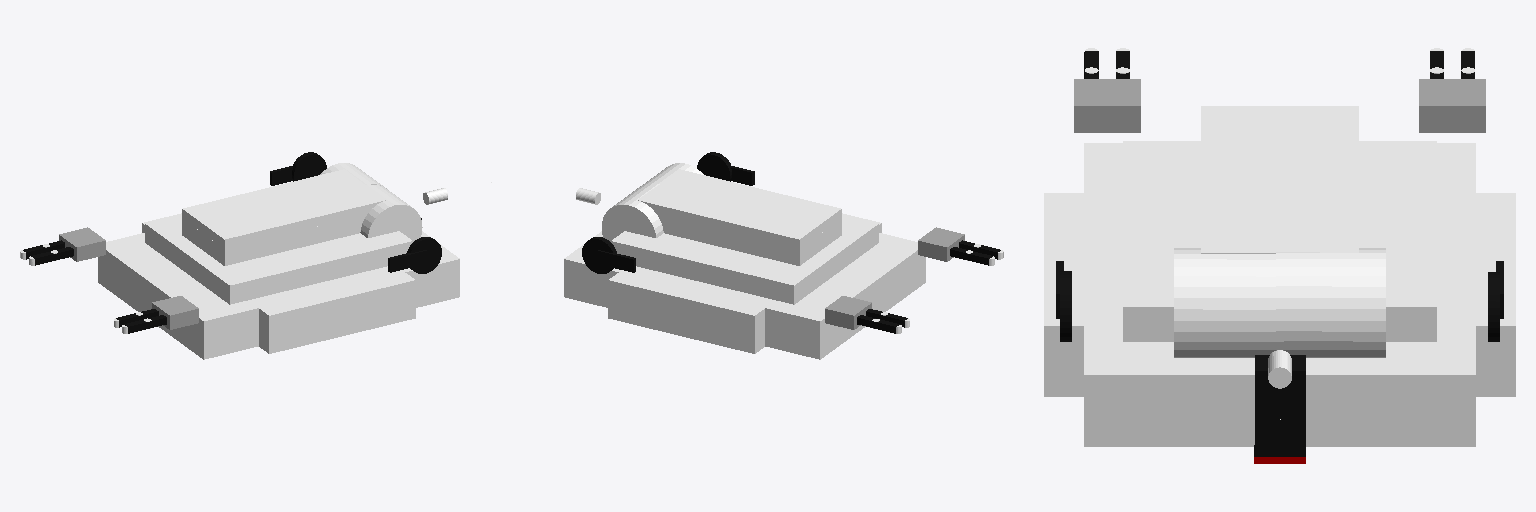
--- Facts derived from the render (not from the file) ---
3 views of the same robot in one strip: view 1: azimuth 30°, elevation 25°; view 2: azimuth 150°, elevation 25°; view 3: azimuth 270°, elevation 25° (orthographic).
Robot: amigo — 56 links, 55 joints (28 revolute, 27 fixed); root link base_link; default pose: all joints at 0.
Links seen in each view (by area): view 1: base, torso_mounting_frame, trunk, sidepot_right, upper_leg, shoulder_mount_right, hand_left, hand_right, shoulder_link1_right, shoulder_link1_left, shoulder_link2_right; view 2: base, trunk, torso_mounting_frame, sidepot_left, shoulder_mount_left, hand_left, hand_right, shoulder_link1_left, shoulder_link1_right, upper_leg, shoulder_link2_left; view 3: base, torso_mounting_frame, trunk, shoulder_mount_left, shoulder_mount_right, sidepot_left, sidepot_right, base_laser, hand_right, hand_left, shoulder_link1_right, shoulder_link1_left (+1 smaller).
Link boxes in pixels (x1=…): base: x1=98, y1=231, x2=459, y2=359; torso_mounting_frame: x1=145, y1=215, x2=412, y2=304; trunk: x1=182, y1=169, x2=386, y2=248; sidepot_right: x1=259, y1=273, x2=415, y2=353; upper_leg: x1=182, y1=214, x2=366, y2=265; shoulder_mount_right: x1=360, y1=185, x2=422, y2=241; hand_left: x1=59, y1=227, x2=105, y2=261; hand_right: x1=152, y1=296, x2=198, y2=329; shoulder_link1_right: x1=407, y1=237, x2=441, y2=273; shoulder_link1_left: x1=292, y1=152, x2=326, y2=181; shoulder_link2_right: x1=388, y1=250, x2=426, y2=272; base: x1=564, y1=231, x2=925, y2=359; trunk: x1=638, y1=169, x2=841, y2=265; torso_mounting_frame: x1=611, y1=215, x2=878, y2=304; sidepot_left: x1=608, y1=273, x2=764, y2=353; shoulder_mount_left: x1=602, y1=183, x2=663, y2=241; hand_left: x1=825, y1=296, x2=871, y2=329; hand_right: x1=918, y1=227, x2=964, y2=261; shoulder_link1_left: x1=582, y1=237, x2=616, y2=273; shoulder_link1_right: x1=697, y1=152, x2=731, y2=181; upper_leg: x1=800, y1=219, x2=841, y2=265; shoulder_link2_left: x1=597, y1=250, x2=635, y2=272; base: x1=1084, y1=143, x2=1475, y2=446; torso_mounting_frame: x1=1123, y1=141, x2=1436, y2=341; trunk: x1=1201, y1=106, x2=1358, y2=253; shoulder_mount_left: x1=1276, y1=248, x2=1385, y2=357; shoulder_mount_right: x1=1174, y1=248, x2=1283, y2=357; sidepot_left: x1=1476, y1=193, x2=1515, y2=396; sidepot_right: x1=1044, y1=193, x2=1083, y2=396; base_laser: x1=1254, y1=355, x2=1305, y2=456; hand_right: x1=1074, y1=79, x2=1140, y2=132; hand_left: x1=1419, y1=79, x2=1485, y2=132; shoulder_link1_right: x1=1060, y1=271, x2=1071, y2=341; shoulder_link1_left: x1=1488, y1=272, x2=1499, y2=341.
Size in the robot's own frame: 1.15 by 0.6 by 0.2448 metres.
0 mesh visuals loaded from 3 distinct referenced files (none loaded); not drawn: 5 (reference not matched to a file when rendering).

URDF robot description (amigo):
<?xml version="1.0" ?>
<!-- =================================================================================== -->
<!-- |    This document was autogenerated by xacro from [local-path]/ros/groovy/tue/trunk/amigo2_common/amigo2_description/scripts/../urdf/xacro/amigo2.urdf.xacro | -->
<!-- |    EDITING THIS FILE BY HAND IS NOT RECOMMENDED                                 | -->
<!-- =================================================================================== -->
<robot name="amigo" xmlns:controller="http://playerstage.sourceforge.net/gazebo/xmlschema/#controller" xmlns:interface="http://playerstage.sourceforge.net/gazebo/xmlschema/#interface" xmlns:sensor="http://playerstage.sourceforge.net/gazebo/xmlschema/#sensor" xmlns:xacro="http://ros.org/wiki/xacro">
  <!--xmlns:sensor="http://playerstage.sourceforge.net/gazebo/xmlschema/#sensor"
       xmlns:controller="http://playerstage.sourceforge.net/gazebo/xmlschema/#controller"
       xmlns:interface="http://playerstage.sourceforge.net/gazebo/xmlschema/#interface">-->
  <author>Janno Lunenburg</author>
  <license>BSD</license>
  <review notes="" status="unreviewed"/>
  <!-- ToDo: In general: look at DH conventions-->
  <!--get link & joint definitions -->
  <!--Definitions from default package?-->
  <!--get link & joint definitions -->
  <!--<include filename="$(find amigo_robot_model)/description/definitions.xacro" />-->
  <author>Kris van Tienhoven</author>
  <license>BSD</license>
  <review notes="" status="unreviewed"/>
  <!--get custom materials -->
  <!--<include filename="$(find amigo_robot_model)/description/materials.urdf.xacro" />-->
  <author>Kris van Tienhoven</author>
  <license>BSD</license>
  <review notes="" status="unreviewed"/>
  <material name="Blue">
    <color rgba="0.0 0.0 0.8 1.0"/>
  </material>
  <material name="Green">
    <color rgba="0.0 0.8 0.0 1.0"/>
  </material>
  <material name="Grey">
    <color rgba="0.7 0.7 0.7 1.0"/>
  </material>
  <material name="Grey2">
    <color rgba="0.9 0.9 0.9 1.0"/>
  </material>
  <material name="Red">
    <color rgba="0.8 0.0 0.0 1.0"/>
  </material>
  <material name="White">
    <color rgba="1.0 1.0 1.0 1.0"/>
  </material>
  <material name="Black">
    <color rgba="0.1 0.1 0.1 1.0"/>
  </material>
  <material name="LightGrey">
    <color rgba="0.6 0.6 0.6 1.0"/>
  </material>
  <material name="amigo_description/bottomcovers">
    <texture filename="package://amigo_description/media/materials/textures/bottomcovers/finalreduced.jpg"/>
  </material>
  <material name="amigo_description/white">
    <texture filename="package://amigo_description/media/materials/textures/white/white.jpg"/>
  </material>
  <material name="amigo_description/logo">
    <texture filename="package://amigo_description/media/materials/textures/logo/tue.jpg"/>
  </material>
  <material name="amigo_description/aluminium">
    <texture filename="package://amigo_description/media/materials/textures/aluminium/aluminium_0001_c.jpg"/>
  </material>
  <material name="amigo_description/orange">
    <texture filename="package://amigo_description/media/materials/textures/orange/orange.jpg"/>
  </material>
  <!--========BUILD BASE======-->
  <author>Janno Lunenburg</author>
  <license>BSD</license>
  <review notes="" status="unreviewed"/>
  <link name="base_link">
    <inertial>
      <origin rpy="0 0 0" xyz="0.0 0.0 0.0"/>
      <mass value="0"/>
      <inertia ixx="0" ixy="0" ixz="0" iyy="0" iyz="0" izz="0"/>
    </inertial>
    <visual>
      <origin rpy="0 0 0" xyz="0.0 0.0 0.0"/>
      <geometry>
        <cylinder length="0.00" radius="0.0"/>
      </geometry>
      <material name="White">
     </material>
    </visual>
    <collision>
      <origin rpy="0 0 0" xyz="0.0 0.0 0.0"/>
      <geometry>
        <cylinder length="0.00" radius="0.0"/>
      </geometry>
    </collision>
  </link>
  <gazebo reference="base_link">
    <material>Gazebo/White</material>
    <turnGravityOff>false</turnGravityOff>
  </gazebo>
  <link name="base">
    <inertial>
      <origin rpy="0 0 0" xyz="0.0 0.0 0.0"/>
      <mass value="0.1"/>
      <inertia ixx="0.001" ixy="0" ixz="0" iyy="0.001" iyz="0" izz="0.001"/>
    </inertial>
    <visual>
      <origin rpy="0 0 0" xyz="0.0 0.0 0.0"/>
      <geometry>
        <box size="0.700 0.500 0.1"/>
      </geometry>
      <material name="White">
     </material>
    </visual>
    <collision>
      <origin rpy="0 0 0" xyz="0.0 0.0 0.0"/>
      <geometry>
        <box size="0.700 0.500 0.1"/>
      </geometry>
    </collision>
  </link>
  <gazebo reference="base">
    <material>Gazebo/White</material>
    <turnGravityOff>false</turnGravityOff>
  </gazebo>
  <link name="sidepot_left">
    <inertial>
      <origin rpy="0 0 0" xyz="0.0 0.0 0.0"/>
      <mass value="0.1"/>
      <inertia ixx="0.001" ixy="0" ixz="0" iyy="0.001" iyz="0" izz="0.001"/>
    </inertial>
    <visual>
      <origin rpy="0 0 0" xyz="0.0 0.0 0.0"/>
      <geometry>
        <box size="0.400 0.050 0.1"/>
      </geometry>
      <material name="White">
     </material>
    </visual>
    <collision>
      <origin rpy="0 0 0" xyz="0.0 0.0 0.0"/>
      <geometry>
        <box size="0.400 0.050 0.1"/>
      </geometry>
    </collision>
  </link>
  <gazebo reference="sidepot_left">
    <material>Gazebo/White</material>
    <turnGravityOff>false</turnGravityOff>
  </gazebo>
  <link name="sidepot_right">
    <inertial>
      <origin rpy="0 0 0" xyz="0.0 0.0 0.0"/>
      <mass value="0.1"/>
      <inertia ixx="0.001" ixy="0" ixz="0" iyy="0.001" iyz="0" izz="0.001"/>
    </inertial>
    <visual>
      <origin rpy="0 0 0" xyz="0.0 0.0 0.0"/>
      <geometry>
        <box size="0.400 0.050 0.1"/>
      </geometry>
      <material name="White">
     </material>
    </visual>
    <collision>
      <origin rpy="0 0 0" xyz="0.0 0.0 0.0"/>
      <geometry>
        <box size="0.400 0.050 0.1"/>
      </geometry>
    </collision>
  </link>
  <gazebo reference="sidepot_right">
    <material>Gazebo/White</material>
    <turnGravityOff>false</turnGravityOff>
  </gazebo>
  <link name="base_torso_mount">
    <inertial>
      <origin rpy="0 0 0" xyz="0.0 0.0 0.0"/>
      <mass value="0"/>
      <inertia ixx="0" ixy="0" ixz="0" iyy="0" iyz="0" izz="0"/>
    </inertial>
    <visual>
      <origin rpy="0 0 0" xyz="0.0 0.0 0.0"/>
      <geometry>
        <cylinder length="0.00" radius="0.0"/>
      </geometry>
      <material name="White">
     </material>
    </visual>
    <collision>
      <origin rpy="0 0 0" xyz="0.0 0.0 0.0"/>
      <geometry>
        <cylinder length="0.00" radius="0.0"/>
      </geometry>
    </collision>
  </link>
  <gazebo reference="base_torso_mount">
    <material>Gazebo/White</material>
    <turnGravityOff>false</turnGravityOff>
  </gazebo>
  <joint name="base_link_joint" type="fixed">
    <parent link="base_link"/>
    <child link="base"/>
    <axis xyz="1 0 0"/>
    <origin rpy="0 0 0" xyz="0.0 0.0 0.075"/>
    <!--ToDO: adjust height-->
  </joint>
  <joint name="sidepot_left_joint" type="fixed">
    <parent link="base"/>
    <child link="sidepot_left"/>
    <axis xyz="1 0 0"/>
    <origin rpy="0 0 0" xyz="0.0 0.275 0.0"/>
    <!--ToDO: adjust distance-->
  </joint>
  <joint name="sidepot_right_joint" type="fixed">
    <parent link="base"/>
    <child link="sidepot_right"/>
    <axis xyz="1 0 0"/>
    <origin rpy="0 0 0" xyz="0.0 -0.275 0.0"/>
    <!--ToDO: adjust distance-->
  </joint>
  <joint name="base_mount_joint" type="fixed">
    <parent link="base"/>
    <child link="base_torso_mount"/>
    <origin rpy="0 0 0.0" xyz="0.0 0.0 0.05"/>
    <!--ToDo: adjust height-->
  </joint>
  <!--========BUILD TORSO======-->
  <author>Rob Janssen, Kris van Tienhoven</author>
  <license>BSD</license>
  <review notes="" status="unreviewed"/>
  <link name="torso_mounting_frame">
    <inertial>
      <origin rpy="0 0 0" xyz="0.0 0.0 0.025"/>
      <mass value="0.1"/>
      <inertia ixx="0.001" ixy="0" ixz="0" iyy="0.001" iyz="0" izz="0.001"/>
    </inertial>
    <visual>
      <origin rpy="0 0 0" xyz="0.0 0.0 0.025"/>
      <geometry>
        <box size="0.500 0.400 0.05"/>
      </geometry>
      <material name="White">
     </material>
    </visual>
    <collision>
      <origin rpy="0 0 0" xyz="0.0 0.0 0.025"/>
      <geometry>
        <box size="0.500 0.400 0.05"/>
      </geometry>
    </collision>
  </link>
  <gazebo reference="torso_mounting_frame">
    <material>Gazebo/White</material>
    <turnGravityOff>false</turnGravityOff>
  </gazebo>
  <link name="lower_rear_leg">
    <inertial>
      <origin rpy="0 0 0" xyz="0.195 0.0 0.0"/>
      <mass value="0.1"/>
      <inertia ixx="0.001" ixy="0" ixz="0" iyy="0.001" iyz="0" izz="0.001"/>
    </inertial>
    <visual>
      <origin rpy="0 0 0" xyz="0.195 0.0 0.0"/>
      <geometry>
        <box size="0.390 0.200 0.05"/>
      </geometry>
      <material name="White">
     </material>
    </visual>
    <collision>
      <origin rpy="0 0 0" xyz="0.195 0.0 0.0"/>
      <geometry>
        <box size="0.390 0.200 0.05"/>
      </geometry>
    </collision>
  </link>
  <gazebo reference="lower_rear_leg">
    <material>Gazebo/White</material>
    <turnGravityOff>false</turnGravityOff>
  </gazebo>
  <link name="upper_leg">
    <inertial>
      <origin rpy="0 0 0" xyz="0.20575 0.0 0.0"/>
      <mass value="0.1"/>
      <inertia ixx="0.001" ixy="0" ixz="0" iyy="0.001" iyz="0" izz="0.001"/>
    </inertial>
    <visual>
      <origin rpy="0 0 0" xyz="0.20575 0.0 0.0"/>
      <geometry>
        <box size="0.4115 0.200 0.1"/>
      </geometry>
      <material name="White">
     </material>
    </visual>
    <collision>
      <origin rpy="0 0 0" xyz="0.20575 0.0 0.0"/>
      <geometry>
        <box size="0.4115 0.200 0.1"/>
      </geometry>
    </collision>
  </link>
  <gazebo reference="upper_leg">
    <material>Gazebo/White</material>
    <turnGravityOff>false</turnGravityOff>
  </gazebo>
  <link name="trunk">
    <inertial>
      <origin rpy="0 0 0" xyz="0.2225 0.0 0.0"/>
      <mass value="0.1"/>
      <inertia ixx="0.001" ixy="0" ixz="0" iyy="0.001" iyz="0" izz="0.001"/>
    </inertial>
    <visual>
      <origin rpy="0 0 0" xyz="0.2225 0.0 0.0"/>
      <geometry>
        <box size="0.445 0.200 0.15"/>
      </geometry>
      <material name="White">
     </material>
    </visual>
    <collision>
      <origin rpy="0 0 0" xyz="0.2225 0.0 0.0"/>
      <geometry>
        <box size="0.445 0.200 0.15"/>
      </geometry>
    </collision>
  </link>
  <gazebo reference="trunk">
    <material>Gazebo/White</material>
    <turnGravityOff>false</turnGravityOff>
  </gazebo>
  <joint name="torso_mount_joint" type="fixed">
    <parent link="base_torso_mount"/>
    <child link="torso_mounting_frame"/>
    <origin rpy="0 0 0.0" xyz="0.0 0.0 0.0"/>
    <!--ToDo: adjust height-->
  </joint>
  <joint name="ankle_joint" type="revolute">
    <parent link="torso_mounting_frame"/>
    <child link="lower_rear_leg"/>
    <origin rpy="0 0 0" xyz="-0.185 0.0 0.045"/>
    <axis xyz="0 -1 0"/>
    <dynamics damping="6.0" friction="4.87"/>
    <limit effort="1000" lower="0.0" upper="1.57" velocity="10"/>
  </joint>
  <joint name="knee_joint" type="revolute">
    <parent link="lower_rear_leg"/>
    <child link="upper_leg"/>
    <origin rpy="3.14 3.14 0" xyz="0.390 0.0 0."/>
    <axis xyz="0 -1 0"/>
    <dynamics damping="6.0" friction="4.87"/>
    <limit effort="1000" lower="0.0" upper="1.57" velocity="10"/>
  </joint>
  <joint name="hip_joint" type="revolute">
    <parent link="upper_leg"/>
    <child link="trunk"/>
    <origin rpy="3.14 3.14 0" xyz="0.4115 0.0 0."/>
    <axis xyz="0 -1 0"/>
    <dynamics damping="6.0" friction="4.87"/>
    <limit effort="1000" lower="0.0" upper="1.57" velocity="10"/>
  </joint>
  <!--========BUILD ARMS======-->
  <author>Rob Janssen, Kris van Tienhoven, Janno Lunenburg</author>
  <license>BSD</license>
  <review notes="" status="unreviewed"/>
  <link name="shoulder_mount_right">
    <inertial>
      <origin rpy="1.57 0 0" xyz="0.0 -0.155 0.0"/>
      <mass value="0.15"/>
      <inertia ixx="0.01" ixy="0" ixz="0" iyy="0.01" iyz="0" izz="0.01"/>
    </inertial>
    <visual>
      <origin rpy="1.57 0 0 " xyz="0.0 -0.155 0.0"/>
      <geometry>
        <cylinder length="0.140" radius="0.075"/>
      </geometry>
      <material name="White">
     </material>
    </visual>
    <collision>
      <origin rpy="1.57 0 0 " xyz="0.0 -0.155 0.0"/>
      <geometry>
        <cylinder length="0.140" radius="0.075"/>
      </geometry>
    </collision>
  </link>
  <gazebo reference="shoulder_mount_right">
    <material>Gazebo/White</material>
    <turnGravityOff>false</turnGravityOff>
  </gazebo>
  <link name="shoulder_link1_right">
    <inertial>
      <origin rpy="0 0 0" xyz="0.0 0.0 0.0"/>
      <mass value="0.25"/>
      <inertia ixx="6.0" ixy="0" ixz="0" iyy="0.01" iyz="0" izz="0.01"/>
    </inertial>
    <visual>
      <origin rpy="0 0 0 " xyz="0.0 0.0 0.0525"/>
      <geometry>
        <cylinder length="0.015" radius="0.045"/>
      </geometry>
      <material name="Black">
     </material>
    </visual>
    <collision>
      <origin rpy="0 0 0 " xyz="0.0 0.0 0.0525"/>
      <geometry>
        <cylinder length="0.015" radius="0.045"/>
      </geometry>
    </collision>
  </link>
  <gazebo reference="shoulder_link1_right">
    <material>Gazebo/Black</material>
    <turnGravityOff>false</turnGravityOff>
  </gazebo>
  <link name="shoulder_link2_right">
    <inertial>
      <origin rpy="0 0 0" xyz="0.0 0.0 0.0"/>
      <mass value="0.15"/>
      <inertia ixx="0.01" ixy="0" ixz="0" iyy="4.04" iyz="0" izz="0.001"/>
    </inertial>
    <visual>
      <origin rpy="0 0 0" xyz="0.0 -0.06 -0.05"/>
      <geometry>
        <box size="0.035 0.01 0.1"/>
      </geometry>
      <material name="Black">
     </material>
    </visual>
    <collision>
      <origin rpy="0 0 0" xyz="0.0 -0.06 -0.05"/>
      <geometry>
        <box size="0.035 0.01 0.1"/>
      </geometry>
    </collision>
  </link>
  <gazebo reference="shoulder_link2_right">
    <material>Gazebo/Black</material>
    <turnGravityOff>false</turnGravityOff>
  </gazebo>
  <link name="upper_arm_right">
    <inertial>
      <origin rpy="0 0 0" xyz="0.0 -0.2 0.0"/>
      <mass value="2.95"/>
      <inertia ixx="0.027" ixy="0" ixz="0" iyy="0.45993" iyz="0" izz="0.004"/>
    </inertial>
    <visual>
      <origin rpy="0 0 3.1415" xyz="-0.00959 -0.19131 -0.00001"/>
      <geometry>
        <mesh filename="package://amigo_description/media/meshes/upperarmtextured.dae" scale="0.0004 0.0004 0.0004"/>
      </geometry>
      <material name="amigo_description/white"/>
    </visual>
    <collision>
      <origin rpy="0 0 3.1415" xyz="-0.00959 -0.19131 -0.00001"/>
      <geometry>
        <mesh filename="package://amigo_description/media/meshes/upperarmtextured.dae" scale="0.0004 0.0004 0.0004"/>
      </geometry>
    </collision>
  </link>
  <gazebo reference="upper_arm_right">
    <material>amigo_description/white</material>
    <turnGravityOff>false</turnGravityOff>
  </gazebo>
  <link name="elbow_link4_right">
    <inertial>
      <origin rpy="0 0 0" xyz="0.0 0.0 0.0"/>
      <mass value="0.1"/>
      <inertia ixx="0.001" ixy="0" ixz="0" iyy="0.6" iyz="0" izz="0.001"/>
    </inertial>
    <visual>
      <origin rpy="0 0 0" xyz="0.0 0.0 0.0"/>
      <geometry>
        <cylinder length="0.0" radius="0.0"/>
      </geometry>
      <material name="Grey">
     </material>
    </visual>
    <collision>
      <origin rpy="0 0 0" xyz="0.0 0.0 0.0"/>
      <geometry>
        <cylinder length="0.0" radius="0.0"/>
      </geometry>
    </collision>
  </link>
  <gazebo reference="elbow_link4_right">
    <material>Gazebo/Grey</material>
    <turnGravityOff>false</turnGravityOff>
  </gazebo>
  <link name="fore_arm_right">
    <inertial>
      <origin rpy="0.0 0 0" xyz="0.0 -0.14 0.0"/>
      <mass value="0.85"/>
      <inertia ixx="0.001" ixy="0" ixz="0" iyy="0.5" iyz="0" izz="0.001"/>
    </inertial>
    <visual>
      <origin rpy="0 -1.5708 0" xyz="0.00425 -0.14868 0.00547"/>
      <geometry>
        <mesh filename="package://amigo_description/media/meshes/forearmtextured.dae" scale="0.0004 0.0004 0.0004"/>
      </geometry>
      <material name="amigo_description/white"/>
    </visual>
    <collision>
      <origin rpy="0 -1.5708 0" xyz="0.00425 -0.14868 0.00547"/>
      <geometry>
        <mesh filename="package://amigo_description/media/meshes/forearmtextured.dae" scale="0.0004 0.0004 0.0004"/>
      </geometry>
    </collision>
  </link>
  <gazebo reference="fore_arm_right">
    <material>amigo_description/white</material>
    <turnGravityOff>false</turnGravityOff>
  </gazebo>
  <link name="wrist_link6_right">
    <inertial>
      <origin rpy="0 0 0" xyz="0.0 0.0 0.0"/>
      <mass value="0.01"/>
      <inertia ixx="0.001" ixy="0" ixz="0" iyy="0.03322" iyz="0" izz="0.001"/>
    </inertial>
    <visual>
      <origin rpy="1.5708 0 0" xyz="0.0 0.0 0.0"/>
      <geometry>
        <cylinder length="0.0" radius="0.0"/>
      </geometry>
      <material name="Black">
     </material>
    </visual>
    <collision>
      <origin rpy="1.5708 0 0" xyz="0.0 0.0 0.0"/>
      <geometry>
        <cylinder length="0.0" radius="0.0"/>
      </geometry>
    </collision>
  </link>
  <gazebo reference="wrist_link6_right">
    <material>Gazebo/Black</material>
    <turnGravityOff>false</turnGravityOff>
  </gazebo>
  <link name="hand_right">
    <inertial>
      <origin rpy="0 0 0" xyz="0.048 0.0 0.0"/>
      <mass value="0.2"/>
      <inertia ixx="0.01" ixy="0" ixz="0" iyy="0.01" iyz="0" izz="0.0622"/>
    </inertial>
    <visual>
      <origin rpy="0 0 0" xyz="0.048 0.0 0.0"/>
      <geometry>
        <box size="0.080 0.085 0.038"/>
      </geometry>
      <material name="Grey">
     </material>
    </visual>
    <collision>
      <origin rpy="0 0 0" xyz="0.048 0.0 0.0"/>
      <geometry>
        <box size="0.080 0.085 0.038"/>
      </geometry>
    </collision>
  </link>
  <gazebo reference="hand_right">
    <material>Gazebo/Grey</material>
    <turnGravityOff>false</turnGravityOff>
  </gazebo>
  <link name="finger1_right">
    <inertial>
      <origin rpy="0 0 0" xyz="0.0 0.0 -0.03"/>
      <mass value="0.01"/>
      <inertia ixx="0.01" ixy="0" ixz="0" iyy="0.01" iyz="0" izz="0.01"/>
    </inertial>
    <visual>
      <origin rpy="0 0 0" xyz="0.0 0.0 -0.03"/>
      <geometry>
        <box size="0.018 0.018 0.06"/>
      </geometry>
      <material name="Black">
     </material>
    </visual>
    <collision>
      <origin rpy="0 0 0" xyz="0.0 0.0 -0.03"/>
      <geometry>
        <box size="0.018 0.018 0.06"/>
      </geometry>
    </collision>
  </link>
  <gazebo reference="finger1_right">
    <material>Gazebo/Black</material>
    <turnGravityOff>false</turnGravityOff>
  </gazebo>
  <gazebo reference="finger1_right">
    <mu1 value="100.0"/>
    <mu2 value="100.0"/>
  </gazebo>
  <link name="finger1_phalanx_right">
    <inertial>
      <origin rpy="0 0 0" xyz="0.0 0.0 0"/>
      <mass value="0.01"/>
      <inertia ixx="0.001" ixy="0" ixz="0" iyy="0.001" iyz="0" izz="0.001"/>
    </inertial>
    <visual>
      <origin rpy="0 0 0" xyz="0.0 0.0 0"/>
      <geometry>
        <cylinder length="0.019" radius="0.009"/>
      </geometry>
      <material name="White">
     </material>
    </visual>
    <collision>
      <origin rpy="0 0 0" xyz="0.0 0.0 0"/>
      <geometry>
        <cylinder length="0.019" radius="0.009"/>
      </geometry>
    </collision>
  </link>
  <gazebo reference="finger1_phalanx_right">
    <material>Gazebo/White</material>
    <turnGravityOff>false</turnGravityOff>
  </gazebo>
  <link name="finger1_tip_right">
    <inertial>
      <origin rpy="0 0 0" xyz="0.0 0.0 -0.03"/>
      <mass value="0.01"/>
      <inertia ixx="0.00037" ixy="0" ixz="0" iyy="0.00052" iyz="0" izz="0.00052"/>
    </inertial>
    <visual>
      <origin rpy="0 0 0" xyz="0.0 0.0 -0.03"/>
      <geometry>
        <box size="0.018 0.018 0.06"/>
      </geometry>
      <material name="Black">
     </material>
    </visual>
    <collision>
      <origin rpy="0 0 0" xyz="0.0 0.0 -0.03"/>
      <geometry>
        <box size="0.018 0.018 0.06"/>
      </geometry>
    </collision>
  </link>
  <gazebo reference="finger1_tip_right">
    <material>Gazebo/Black</material>
    <turnGravityOff>false</turnGravityOff>
  </gazebo>
  <gazebo reference="finger1_tip_right">
    <mu1 value="100.0"/>
    <mu2 value="100.0"/>
  </gazebo>
  <link name="finger1_tip_phalanx_right">
    <inertial>
      <origin rpy="0 0 0" xyz="0.0 0.0 0"/>
      <mass value="0.01"/>
      <inertia ixx="0.001" ixy="0" ixz="0" iyy="0.001" iyz="0" izz="0.001"/>
    </inertial>
    <visual>
      <origin rpy="0 0 0" xyz="0.0 0.0 0"/>
      <geometry>
        <cylinder length="0.017" radius="0.009"/>
      </geometry>
      <material name="White">
     </material>
    </visual>
    <collision>
      <origin rpy="0 0 0" xyz="0.0 0.0 0"/>
      <geometry>
        <cylinder length="0.017" radius="0.009"/>
      </geometry>
    </collision>
  </link>
  <gazebo reference="finger1_tip_phalanx_right">
    <material>Gazebo/White</material>
    <turnGravityOff>false</turnGravityOff>
  </gazebo>
  <link name="finger2_right">
    <inertial>
      <origin rpy="0 0 0" xyz="0.0 0.0 -0.03"/>
      <mass value="0.01"/>
      <inertia ixx="0.01" ixy="0" ixz="0" iyy="0.01" iyz="0" izz="0.01"/>
    </inertial>
    <visual>
      <origin rpy="0 0 0" xyz="0.0 0.0 -0.03"/>
      <geometry>
        <box size="0.018 0.018 0.06"/>
      </geometry>
      <material name="Black">
     </material>
    </visual>
    <collision>
      <origin rpy="0 0 0" xyz="0.0 0.0 -0.03"/>
      <geometry>
        <box size="0.018 0.018 0.06"/>
      </geometry>
    </collision>
  </link>
  <gazebo reference="finger2_right">
    <material>Gazebo/Black</material>
    <turnGravityOff>false</turnGravityOff>
  </gazebo>
  <gazebo reference="finger2_right">
    <mu1 value="100.0"/>
    <mu2 value="100.0"/>
  </gazebo>
  <link name="finger2_phalanx_right">
    <inertial>
      <origin rpy="0 0 0" xyz="0.0 0.0 0"/>
      <mass value="0.01"/>
      <inertia ixx="0.001" ixy="0" ixz="0" iyy="0.001" iyz="0" izz="0.001"/>
    </inertial>
    <visual>
      <origin rpy="0 0 0" xyz="0.0 0.0 0"/>
      <geometry>
        <cylinder length="0.019" radius="0.009"/>
      </geometry>
      <material name="White">
     </material>
    </visual>
    <collision>
      <origin rpy="0 0 0" xyz="0.0 0.0 0"/>
      <geometry>
        <cylinder length="0.019" radius="0.009"/>
      </geometry>
    </collision>
  </link>
  <gazebo reference="finger2_phalanx_right">
    <material>Gazebo/White</material>
    <turnGravityOff>false</turnGravityOff>
  </gazebo>
  <link name="finger2_tip_right">
    <inertial>
      <origin rpy="0 0 0" xyz="0.0 0.0 -0.03"/>
      <mass value="0.01"/>
      <inertia ixx="0.00037" ixy="0" ixz="0" iyy="0.00052" iyz="0" izz="0.00052"/>
    </inertial>
    <visual>
      <origin rpy="0 0 0" xyz="0.0 0.0 -0.03"/>
      <geometry>
        <box size="0.018 0.018 0.06"/>
      </geometry>
      <material name="Black">
     </material>
    </visual>
    <collision>
      <origin rpy="0 0 0" xyz="0.0 0.0 -0.03"/>
      <geometry>
        <box size="0.018 0.018 0.06"/>
      </geometry>
    </collision>
  </link>
  <gazebo reference="finger2_tip_right">
    <material>Gazebo/Black</material>
    <turnGravityOff>false</turnGravityOff>
  </gazebo>
  <gazebo reference="finger2_tip_right">
    <mu1 value="100.0"/>
    <mu2 value="100.0"/>
  </gazebo>
  <link name="finger2_tip_phalanx_right">
    <inertial>
      <origin rpy="0 0 0" xyz="0.0 0.0 0"/>
      <mass value="0.01"/>
      <inertia ixx="0.001" ixy="0" ixz="0" iyy="0.001" iyz="0" izz="0.001"/>
    </inertial>
    <visual>
      <origin rpy="0 0 0" xyz="0.0 0.0 0"/>
      <geometry>
        <cylinder length="0.017" radius="0.009"/>
      </geometry>
      <material name="White">
     </material>
    </visual>
    <collision>
      <origin rpy="0 0 0" xyz="0.0 0.0 0"/>
      <geometry>
        <cylinder length="0.017" radius="0.009"/>
      </geometry>
    </collision>
  </link>
  <gazebo reference="finger2_tip_phalanx_right">
    <material>Gazebo/White</material>
    <turnGravityOff>false</turnGravityOff>
  </gazebo>
  <link name="grippoint_right">
    <inertial>
      <origin rpy="0 0 0" xyz="-0.1 0.0 0.0"/>
      <mass value="0.01"/>
      <inertia ixx="0.0001" ixy="0" ixz="0" iyy="0.0001" iyz="0" izz="0.0001"/>
    </inertial>
    <visual>
      <origin rpy="0 0 0 " xyz="-0.1 0.0 0.0"/>
      <geometry>
        <box size="0.0 0.0 0.0"/>
      </geometry>
      <material name="Blue">
     </material>
    </visual>
    <collision>
      <origin rpy="0 0 0 " xyz="-0.1 0.0 0.0"/>
      <geometry>
        <box size="0.0 0.0 0.0"/>
      </geometry>
    </collision>
  </link>
  <gazebo reference="grippoint_right">
    <material>Gazebo/Blue</material>
    <turnGravityOff>false</turnGravityOff>
  </gazebo>
  <joint name="shoulder_mount_joint_right" type="fixed">
    <parent link="trunk"/>
    <child link="shoulder_mount_right"/>
    <origin rpy="3.14 0 0.0" xyz="0.445 -0.22 0.0"/>
    <!-- Check length -->
  </joint>
  <joint name="shoulder_yaw_joint_right" type="revolute">
    <parent link="shoulder_mount_right"/>
    <child link="shoulder_link1_right"/>
    <origin rpy="-1.5708 -1.5708 0" xyz="0 0 0"/>
    <axis xyz="+1 0 0"/>
    <dynamics damping="4.0" friction="4.87"/>
    <limit effort="13.4" lower="-1.57" upper="0.0" velocity="1.0"/>
  </joint>
  <joint name="shoulder_pitch_joint_right" type="revolute">
    <parent link="shoulder_link1_right"/>
    <child link="shoulder_link2_right"/>
    <origin rpy="-1.5708  0 0" xyz="0.0 0.0 0.0"/>
    <axis xyz="0 -1 0"/>
    <dynamics damping="4.0" friction="6.06"/>
    <limit effort="13.4" lower="-1.57" upper="1.57" velocity="1.0"/>
  </joint>
  <joint name="shoulder_roll_joint_right" type="revolute">
    <parent link="shoulder_link2_right"/>
    <child link="upper_arm_right"/>
    <origin rpy="1.5708 0 0.0" xyz="0.0 0.0 0.0"/>
    <axis xyz="0 1.0 0"/>
    <dynamics damping="3.8" friction="2.216"/>
    <limit effort="9.8" lower="-1.57" upper="1.57" velocity="1.0"/>
  </joint>
  <joint name="elbow_pitch_joint_right" type="revolute">
    <parent link="upper_arm_right"/>
    <child link="elbow_link4_right"/>
    <origin rpy="-1.5708 0 0" xyz="0.01 -0.32 0.0"/>
    <axis xyz="0 -1 0"/>
    <dynamics damping="3" friction="1.18"/>
    <limit effort="4.5" lower="0.0" upper="2.23" velocity="1.0"/>
  </joint>
  <joint name="elbow_roll_joint_right" type="revolute">
    <parent link="elbow_link4_right"/>
    <child link="fore_arm_right"/>
    <origin rpy="1.5708 0 0" xyz="0.0 0.0 0.0"/>
    <axis xyz="0 1.0 0"/>
    <dynamics damping="3.5" friction="1.35"/>
    <limit effort="4.5" lower="-1.83" upper="1.83" velocity="1.0"/>
  </joint>
  <joint name="wrist_pitch_joint_right" type="revolute">
    <parent link="fore_arm_right"/>
    <child link="wrist_link6_right"/>
    <origin rpy="-1.5708 0 -1.5708" xyz="0.01 -0.28 0.0"/>
    <axis xyz="0 -1 0"/>
    <dynamics damping="0.35" friction="0.63"/>
    <limit effort="1" lower="-0.95" upper="0.95" velocity="1.0"/>
  </joint>
  <joint name="wrist_yaw_joint_right" type="revolute">
    <parent link="wrist_link6_right"/>
    <child link="hand_right"/>
    <origin rpy="0 0 0" xyz="0.0 0.0 0.0"/>
    <axis xyz="0 0 1.01"/>
    <dynamics damping="0.3" friction="0.68"/>
    <limit effort="1" lower="-0.61" upper="0.61" velocity="1.0"/>
  </joint>
  <joint name="finger1_joint_right" type="revolute">
    <parent link="hand_right"/>
    <child link="finger1_right"/>
    <origin rpy="0 -1.57 0" xyz=" 0.075 0.02 0"/>
    <axis xyz="1 0 0"/>
    <dynamics damping="0.5" friction="1.0"/>
    <limit effort="3" lower="-1.57" upper="1.57" velocity="1.0"/>
  </joint>
  <joint name="finger1_phalanx_joint_right" type="fixed">
    <parent link="finger1_right"/>
    <child link="finger1_phalanx_right"/>
    <origin rpy="0 1.57 0" xyz="0 0 -0.06"/>
  </joint>
  <joint name="finger1_tip_joint_right" type="revolute">
    <parent link="finger1_right"/>
    <child link="finger1_tip_right"/>
    <origin rpy="0 0 0" xyz=" 0 0.0 -0.06"/>
    <axis xyz="1 0 0"/>
    <dynamics damping="0.5" friction="1.0"/>
    <limit effort="3" lower="-1.57" upper="1.57" velocity="1.0"/>
  </joint>
  <joint name="finger1_tip_phalanx_joint_right" type="fixed">
    <parent link="finger1_tip_right"/>
    <child link="finger1_tip_phalanx_right"/>
    <origin rpy="0 1.57 0" xyz="0 0 -0.06"/>
  </joint>
  <joint name="finger2_joint_right" type="revolute">
    <parent link="hand_right"/>
    <child link="finger2_right"/>
    <origin rpy="0 -1.57 0" xyz="0.075 -0.02 0"/>
    <axis xyz="-1 0 0"/>
    <dynamics damping="0.5" friction="1.0"/>
    <limit effort="3" lower="-1.57" upper="1.57" velocity="1.0"/>
  </joint>
  <joint name="finger2_phalanx_joint_right" type="fixed">
    <parent link="finger2_right"/>
    <child link="finger2_phalanx_right"/>
    <origin rpy="0 1.57 0" xyz="0 0 -0.06"/>
  </joint>
  <joint name="finger2_tip_joint_right" type="revolute">
    <parent link="finger2_right"/>
    <child link="finger2_tip_right"/>
    <origin rpy="0 0 0" xyz="0 0 -0.06"/>
    <axis xyz="-1 0 0"/>
    <dynamics damping="0.5" friction="1.0"/>
    <limit effort="3" lower="-1.57" upper="1.57" velocity="1.0"/>
  </joint>
  <joint name="finger2_tip_phalanx_joint_right" type="fixed">
    <parent link="finger2_tip_right"/>
    <child link="finger2_tip_phalanx_right"/>
    <origin rpy="0 1.57 0" xyz="0 0 -0.06"/>
  </joint>
  <joint name="grippoint_joint_right" type="fixed">
    <parent link="hand_right"/>
    <child link="grippoint_right"/>
    <origin rpy="0 0 0" xyz="0.14 0.0 0.0"/>
  </joint>
  <link name="shoulder_mount_left">
    <inertial>
      <origin rpy="1.57 0 0" xyz="0.0 0.155 0.0"/>
      <mass value="0.15"/>
      <inertia ixx="0.01" ixy="0" ixz="0" iyy="0.01" iyz="0" izz="0.01"/>
    </inertial>
    <visual>
      <origin rpy="1.57 0 0 " xyz="0.0 0.155 0.0"/>
      <geometry>
        <cylinder length="0.140" radius="0.075"/>
      </geometry>
      <material name="White">
     </material>
    </visual>
    <collision>
      <origin rpy="1.57 0 0 " xyz="0.0 0.155 0.0"/>
      <geometry>
        <cylinder length="0.140" radius="0.075"/>
      </geometry>
    </collision>
  </link>
  <gazebo reference="shoulder_mount_left">
    <material>Gazebo/White</material>
    <turnGravityOff>false</turnGravityOff>
  </gazebo>
  <link name="shoulder_link1_left">
    <inertial>
      <origin rpy="0 0 0" xyz="0.0 0.0 0.0"/>
      <mass value="0.25"/>
      <inertia ixx="6.0" ixy="0" ixz="0" iyy="0.01" iyz="0" izz="0.01"/>
    </inertial>
    <visual>
      <origin rpy="0 0 0 " xyz="0.0 0.0 -0.0525"/>
      <geometry>
        <cylinder length="0.015" radius="0.045"/>
      </geometry>
      <material name="Black">
     </material>
    </visual>
    <collision>
      <origin rpy="0 0 0 " xyz="0.0 0.0 -0.0525"/>
      <geometry>
        <cylinder length="0.015" radius="0.045"/>
      </geometry>
    </collision>
  </link>
  <gazebo reference="shoulder_link1_left">
    <material>Gazebo/Black</material>
    <turnGravityOff>false</turnGravityOff>
  </gazebo>
  <link name="shoulder_link2_left">
    <inertial>
      <origin rpy="0 0 0" xyz="0.0 0.0 0.0"/>
      <mass value="0.15"/>
      <inertia ixx="0.01" ixy="0" ixz="0" iyy="4.04" iyz="0" izz="0.001"/>
    </inertial>
    <visual>
      <origin rpy="0 0 0" xyz="0.0 0.06 -0.05"/>
      <geometry>
        <box size="0.035 0.01 0.1"/>
      </geometry>
      <material name="Black">
     </material>
    </visual>
    <collision>
      <origin rpy="0 0 0" xyz="0.0 0.06 -0.05"/>
      <geometry>
        <box size="0.035 0.01 0.1"/>
      </geometry>
    </collision>
  </link>
  <gazebo reference="shoulder_link2_left">
    <material>Gazebo/Black</material>
    <turnGravityOff>false</turnGravityOff>
  </gazebo>
  <link name="upper_arm_left">
    <inertial>
      <origin rpy="0 0 0" xyz="0.0 -0.2 0.0"/>
      <mass value="2.95"/>
      <inertia ixx="0.027" ixy="0" ixz="0" iyy="0.45993" iyz="0" izz="0.004"/>
    </inertial>
    <visual>
      <origin rpy="0 0 3.1415" xyz="-0.00959 -0.19131 -0.00001"/>
      <geometry>
        <mesh filename="package://amigo_description/media/meshes/upperarmtextured.dae" scale="0.0004 0.0004 0.0004"/>
      </geometry>
      <material name="amigo_description/white"/>
    </visual>
    <collision>
      <origin rpy="0 0 3.1415" xyz="-0.00959 -0.19131 -0.00001"/>
      <geometry>
        <mesh filename="package://amigo_description/media/meshes/upperarmtextured.dae" scale="0.0004 0.0004 0.0004"/>
      </geometry>
    </collision>
  </link>
  <gazebo reference="upper_arm_left">
    <material>amigo_description/white</material>
    <turnGravityOff>false</turnGravityOff>
  </gazebo>
  <link name="elbow_link4_left">
    <inertial>
      <origin rpy="0 0 0" xyz="0.0 0.0 0.0"/>
      <mass value="0.1"/>
      <inertia ixx="0.001" ixy="0" ixz="0" iyy="0.6" iyz="0" izz="0.001"/>
    </inertial>
    <visual>
      <origin rpy="0 0 0" xyz="0.0 0.0 0.0"/>
      <geometry>
        <cylinder length="0.0" radius="0.0"/>
      </geometry>
      <material name="Grey">
     </material>
    </visual>
    <collision>
      <origin rpy="0 0 0" xyz="0.0 0.0 0.0"/>
      <geometry>
        <cylinder length="0.0" radius="0.0"/>
      </geometry>
    </collision>
  </link>
  <gazebo reference="elbow_link4_left">
    <material>Gazebo/Grey</material>
    <turnGravityOff>false</turnGravityOff>
  </gazebo>
  <link name="fore_arm_left">
    <inertial>
      <origin rpy="0.0 0 0" xyz="0.0 -0.14 0.0"/>
      <mass value="0.85"/>
      <inertia ixx="0.001" ixy="0" ixz="0" iyy="0.5" iyz="0" izz="0.001"/>
    </inertial>
    <visual>
      <origin rpy="0 -1.5708 0" xyz="0.00425 -0.14868 0.00547"/>
      <geometry>
        <mesh filename="package://amigo_description/media/meshes/forearmtextured.dae" scale="0.0004 0.0004 0.0004"/>
      </geometry>
      <material name="amigo_description/white"/>
    </visual>
    <collision>
      <origin rpy="0 -1.5708 0" xyz="0.00425 -0.14868 0.00547"/>
      <geometry>
        <mesh filename="package://amigo_description/media/meshes/forearmtextured.dae" scale="0.0004 0.0004 0.0004"/>
      </geometry>
    </collision>
  </link>
  <gazebo reference="fore_arm_left">
    <material>amigo_description/white</material>
    <turnGravityOff>false</turnGravityOff>
  </gazebo>
  <link name="wrist_link6_left">
    <inertial>
      <origin rpy="0 0 0" xyz="0.0 0.0 0.0"/>
      <mass value="0.01"/>
      <inertia ixx="0.001" ixy="0" ixz="0" iyy="0.03322" iyz="0" izz="0.001"/>
    </inertial>
    <visual>
      <origin rpy="1.5708 0 0" xyz="0.0 0.0 0.0"/>
      <geometry>
        <cylinder length="0.0" radius="0.0"/>
      </geometry>
      <material name="Black">
     </material>
    </visual>
    <collision>
      <origin rpy="1.5708 0 0" xyz="0.0 0.0 0.0"/>
      <geometry>
        <cylinder length="0.0" radius="0.0"/>
      </geometry>
    </collision>
  </link>
  <gazebo reference="wrist_link6_left">
    <material>Gazebo/Black</material>
    <turnGravityOff>false</turnGravityOff>
  </gazebo>
  <link name="hand_left">
    <inertial>
      <origin rpy="0 0 0" xyz="0.048 0.0 0.0"/>
      <mass value="0.2"/>
      <inertia ixx="0.01" ixy="0" ixz="0" iyy="0.01" iyz="0" izz="0.0622"/>
    </inertial>
    <visual>
      <origin rpy="0 0 0" xyz="0.048 0.0 0.0"/>
      <geometry>
        <box size="0.080 0.085 0.038"/>
      </geometry>
      <material name="Grey">
     </material>
    </visual>
    <collision>
      <origin rpy="0 0 0" xyz="0.048 0.0 0.0"/>
      <geometry>
        <box size="0.080 0.085 0.038"/>
      </geometry>
    </collision>
  </link>
  <gazebo reference="hand_left">
    <material>Gazebo/Grey</material>
    <turnGravityOff>false</turnGravityOff>
  </gazebo>
  <link name="finger1_left">
    <inertial>
      <origin rpy="0 0 0" xyz="0.0 0.0 -0.03"/>
      <mass value="0.01"/>
      <inertia ixx="0.01" ixy="0" ixz="0" iyy="0.01" iyz="0" izz="0.01"/>
    </inertial>
    <visual>
      <origin rpy="0 0 0" xyz="0.0 0.0 -0.03"/>
      <geometry>
        <box size="0.018 0.018 0.06"/>
      </geometry>
      <material name="Black">
     </material>
    </visual>
    <collision>
      <origin rpy="0 0 0" xyz="0.0 0.0 -0.03"/>
      <geometry>
        <box size="0.018 0.018 0.06"/>
      </geometry>
    </collision>
  </link>
  <gazebo reference="finger1_left">
    <material>Gazebo/Black</material>
    <turnGravityOff>false</turnGravityOff>
  </gazebo>
  <gazebo reference="finger1_left">
    <mu1 value="100.0"/>
    <mu2 value="100.0"/>
  </gazebo>
  <link name="finger1_phalanx_left">
    <inertial>
      <origin rpy="0 0 0" xyz="0.0 0.0 0"/>
      <mass value="0.01"/>
      <inertia ixx="0.001" ixy="0" ixz="0" iyy="0.001" iyz="0" izz="0.001"/>
    </inertial>
    <visual>
      <origin rpy="0 0 0" xyz="0.0 0.0 0"/>
      <geometry>
        <cylinder length="0.019" radius="0.009"/>
      </geometry>
      <material name="White">
     </material>
    </visual>
    <collision>
      <origin rpy="0 0 0" xyz="0.0 0.0 0"/>
      <geometry>
        <cylinder length="0.019" radius="0.009"/>
      </geometry>
    </collision>
  </link>
  <gazebo reference="finger1_phalanx_left">
    <material>Gazebo/White</material>
    <turnGravityOff>false</turnGravityOff>
  </gazebo>
  <link name="finger1_tip_left">
    <inertial>
      <origin rpy="0 0 0" xyz="0.0 0.0 -0.03"/>
      <mass value="0.01"/>
      <inertia ixx="0.00037" ixy="0" ixz="0" iyy="0.00052" iyz="0" izz="0.00052"/>
    </inertial>
    <visual>
      <origin rpy="0 0 0" xyz="0.0 0.0 -0.03"/>
      <geometry>
        <box size="0.018 0.018 0.06"/>
      </geometry>
      <material name="Black">
     </material>
    </visual>
    <collision>
      <origin rpy="0 0 0" xyz="0.0 0.0 -0.03"/>
      <geometry>
        <box size="0.018 0.018 0.06"/>
      </geometry>
    </collision>
  </link>
  <gazebo reference="finger1_tip_left">
    <material>Gazebo/Black</material>
    <turnGravityOff>false</turnGravityOff>
  </gazebo>
  <gazebo reference="finger1_tip_left">
    <mu1 value="100.0"/>
    <mu2 value="100.0"/>
  </gazebo>
  <link name="finger1_tip_phalanx_left">
    <inertial>
      <origin rpy="0 0 0" xyz="0.0 0.0 0"/>
      <mass value="0.01"/>
      <inertia ixx="0.001" ixy="0" ixz="0" iyy="0.001" iyz="0" izz="0.001"/>
    </inertial>
    <visual>
      <origin rpy="0 0 0" xyz="0.0 0.0 0"/>
      <geometry>
        <cylinder length="0.017" radius="0.009"/>
      </geometry>
      <material name="White">
     </material>
    </visual>
    <collision>
      <origin rpy="0 0 0" xyz="0.0 0.0 0"/>
      <geometry>
        <cylinder length="0.017" radius="0.009"/>
      </geometry>
    </collision>
  </link>
  <gazebo reference="finger1_tip_phalanx_left">
    <material>Gazebo/White</material>
    <turnGravityOff>false</turnGravityOff>
  </gazebo>
  <link name="finger2_left">
    <inertial>
      <origin rpy="0 0 0" xyz="0.0 0.0 -0.03"/>
      <mass value="0.01"/>
      <inertia ixx="0.01" ixy="0" ixz="0" iyy="0.01" iyz="0" izz="0.01"/>
    </inertial>
    <visual>
      <origin rpy="0 0 0" xyz="0.0 0.0 -0.03"/>
      <geometry>
        <box size="0.018 0.018 0.06"/>
      </geometry>
      <material name="Black">
     </material>
    </visual>
    <collision>
      <origin rpy="0 0 0" xyz="0.0 0.0 -0.03"/>
      <geometry>
        <box size="0.018 0.018 0.06"/>
      </geometry>
    </collision>
  </link>
  <gazebo reference="finger2_left">
    <material>Gazebo/Black</material>
    <turnGravityOff>false</turnGravityOff>
  </gazebo>
  <gazebo reference="finger2_left">
    <mu1 value="100.0"/>
    <mu2 value="100.0"/>
  </gazebo>
  <link name="finger2_phalanx_left">
    <inertial>
      <origin rpy="0 0 0" xyz="0.0 0.0 0"/>
      <mass value="0.01"/>
      <inertia ixx="0.001" ixy="0" ixz="0" iyy="0.001" iyz="0" izz="0.001"/>
    </inertial>
    <visual>
      <origin rpy="0 0 0" xyz="0.0 0.0 0"/>
      <geometry>
        <cylinder length="0.019" radius="0.009"/>
      </geometry>
      <material name="White">
     </material>
    </visual>
    <collision>
      <origin rpy="0 0 0" xyz="0.0 0.0 0"/>
      <geometry>
        <cylinder length="0.019" radius="0.009"/>
      </geometry>
    </collision>
  </link>
  <gazebo reference="finger2_phalanx_left">
    <material>Gazebo/White</material>
    <turnGravityOff>false</turnGravityOff>
  </gazebo>
  <link name="finger2_tip_left">
    <inertial>
      <origin rpy="0 0 0" xyz="0.0 0.0 -0.03"/>
      <mass value="0.01"/>
      <inertia ixx="0.00037" ixy="0" ixz="0" iyy="0.00052" iyz="0" izz="0.00052"/>
    </inertial>
    <visual>
      <origin rpy="0 0 0" xyz="0.0 0.0 -0.03"/>
      <geometry>
        <box size="0.018 0.018 0.06"/>
      </geometry>
      <material name="Black">
     </material>
    </visual>
    <collision>
      <origin rpy="0 0 0" xyz="0.0 0.0 -0.03"/>
      <geometry>
        <box size="0.018 0.018 0.06"/>
      </geometry>
    </collision>
  </link>
  <gazebo reference="finger2_tip_left">
    <material>Gazebo/Black</material>
    <turnGravityOff>false</turnGravityOff>
  </gazebo>
  <gazebo reference="finger2_tip_left">
    <mu1 value="100.0"/>
    <mu2 value="100.0"/>
  </gazebo>
  <link name="finger2_tip_phalanx_left">
    <inertial>
      <origin rpy="0 0 0" xyz="0.0 0.0 0"/>
      <mass value="0.01"/>
      <inertia ixx="0.001" ixy="0" ixz="0" iyy="0.001" iyz="0" izz="0.001"/>
    </inertial>
    <visual>
      <origin rpy="0 0 0" xyz="0.0 0.0 0"/>
      <geometry>
        <cylinder length="0.017" radius="0.009"/>
      </geometry>
      <material name="White">
     </material>
    </visual>
    <collision>
      <origin rpy="0 0 0" xyz="0.0 0.0 0"/>
      <geometry>
        <cylinder length="0.017" radius="0.009"/>
      </geometry>
    </collision>
  </link>
  <gazebo reference="finger2_tip_phalanx_left">
    <material>Gazebo/White</material>
    <turnGravityOff>false</turnGravityOff>
  </gazebo>
  <link name="grippoint_left">
    <inertial>
      <origin rpy="0 0 0" xyz="-0.1 0.0 0.0"/>
      <mass value="0.01"/>
      <inertia ixx="0.0001" ixy="0" ixz="0" iyy="0.0001" iyz="0" izz="0.0001"/>
    </inertial>
    <visual>
      <origin rpy="0 0 0 " xyz="-0.1 0.0 0.0"/>
      <geometry>
        <box size="0.0 0.0 0.0"/>
      </geometry>
      <material name="Blue">
     </material>
    </visual>
    <collision>
      <origin rpy="0 0 0 " xyz="-0.1 0.0 0.0"/>
      <geometry>
        <box size="0.0 0.0 0.0"/>
      </geometry>
    </collision>
  </link>
  <gazebo reference="grippoint_left">
    <material>Gazebo/Blue</material>
    <turnGravityOff>false</turnGravityOff>
  </gazebo>
  <joint name="shoulder_mount_joint_left" type="fixed">
    <parent link="trunk"/>
    <child link="shoulder_mount_left"/>
    <origin rpy="3.14 0 0.0" xyz="0.445 0.22 0.0"/>
    <!-- Check length -->
  </joint>
  <joint name="shoulder_yaw_joint_left" type="revolute">
    <parent link="shoulder_mount_left"/>
    <child link="shoulder_link1_left"/>
    <origin rpy="-1.5708 -1.5708 0" xyz="0 0 0"/>
    <axis xyz="-1 0 0"/>
    <dynamics damping="4.0" friction="4.87"/>
    <limit effort="13.4" lower="-1.57" upper="0.0" velocity="1.0"/>
  </joint>
  <joint name="shoulder_pitch_joint_left" type="revolute">
    <parent link="shoulder_link1_left"/>
    <child link="shoulder_link2_left"/>
    <origin rpy="-1.5708  0 0" xyz="0.0 0.0 0.0"/>
    <axis xyz="0 -1 0"/>
    <dynamics damping="4.0" friction="6.06"/>
    <limit effort="13.4" lower="-1.57" upper="1.57" velocity="1.0"/>
  </joint>
  <joint name="shoulder_roll_joint_left" type="revolute">
    <parent link="shoulder_link2_left"/>
    <child link="upper_arm_left"/>
    <origin rpy="1.5708 0 0.0" xyz="0.0 0.0 0.0"/>
    <axis xyz="0 -1.0 0"/>
    <dynamics damping="3.8" friction="2.216"/>
    <limit effort="9.8" lower="-1.57" upper="1.57" velocity="1.0"/>
  </joint>
  <joint name="elbow_pitch_joint_left" type="revolute">
    <parent link="upper_arm_left"/>
    <child link="elbow_link4_left"/>
    <origin rpy="-1.5708 0 0" xyz="0.01 -0.32 0.0"/>
    <axis xyz="0 -1 0"/>
    <dynamics damping="3" friction="1.18"/>
    <limit effort="4.5" lower="0.0" upper="2.23" velocity="1.0"/>
  </joint>
  <joint name="elbow_roll_joint_left" type="revolute">
    <parent link="elbow_link4_left"/>
    <child link="fore_arm_left"/>
    <origin rpy="1.5708 0 0" xyz="0.0 0.0 0.0"/>
    <axis xyz="0 -1.0 0"/>
    <dynamics damping="3.5" friction="1.35"/>
    <limit effort="4.5" lower="-1.83" upper="1.83" velocity="1.0"/>
  </joint>
  <joint name="wrist_pitch_joint_left" type="revolute">
    <parent link="fore_arm_left"/>
    <child link="wrist_link6_left"/>
    <origin rpy="-1.5708 0 -1.5708" xyz="0.01 -0.28 0.0"/>
    <axis xyz="0 -1 0"/>
    <dynamics damping="0.35" friction="0.63"/>
    <limit effort="1" lower="-0.95" upper="0.95" velocity="1.0"/>
  </joint>
  <joint name="wrist_yaw_joint_left" type="revolute">
    <parent link="wrist_link6_left"/>
    <child link="hand_left"/>
    <origin rpy="0 0 0" xyz="0.0 0.0 0.0"/>
    <axis xyz="0 0 -1.01"/>
    <dynamics damping="0.3" friction="0.68"/>
    <limit effort="1" lower="-0.61" upper="0.61" velocity="1.0"/>
  </joint>
  <joint name="finger1_joint_left" type="revolute">
    <parent link="hand_left"/>
    <child link="finger1_left"/>
    <origin rpy="0 -1.57 0" xyz=" 0.075 0.02 0"/>
    <axis xyz="1 0 0"/>
    <dynamics damping="0.5" friction="1.0"/>
    <limit effort="3" lower="-1.57" upper="1.57" velocity="1.0"/>
  </joint>
  <joint name="finger1_phalanx_joint_left" type="fixed">
    <parent link="finger1_left"/>
    <child link="finger1_phalanx_left"/>
    <origin rpy="0 1.57 0" xyz="0 0 -0.06"/>
  </joint>
  <joint name="finger1_tip_joint_left" type="revolute">
    <parent link="finger1_left"/>
    <child link="finger1_tip_left"/>
    <origin rpy="0 0 0" xyz=" 0 0.0 -0.06"/>
    <axis xyz="1 0 0"/>
    <dynamics damping="0.5" friction="1.0"/>
    <limit effort="3" lower="-1.57" upper="1.57" velocity="1.0"/>
  </joint>
  <joint name="finger1_tip_phalanx_joint_left" type="fixed">
    <parent link="finger1_tip_left"/>
    <child link="finger1_tip_phalanx_left"/>
    <origin rpy="0 1.57 0" xyz="0 0 -0.06"/>
  </joint>
  <joint name="finger2_joint_left" type="revolute">
    <parent link="hand_left"/>
    <child link="finger2_left"/>
    <origin rpy="0 -1.57 0" xyz="0.075 -0.02 0"/>
    <axis xyz="-1 0 0"/>
    <dynamics damping="0.5" friction="1.0"/>
    <limit effort="3" lower="-1.57" upper="1.57" velocity="1.0"/>
  </joint>
  <joint name="finger2_phalanx_joint_left" type="fixed">
    <parent link="finger2_left"/>
    <child link="finger2_phalanx_left"/>
    <origin rpy="0 1.57 0" xyz="0 0 -0.06"/>
  </joint>
  <joint name="finger2_tip_joint_left" type="revolute">
    <parent link="finger2_left"/>
    <child link="finger2_tip_left"/>
    <origin rpy="0 0 0" xyz="0 0 -0.06"/>
    <axis xyz="-1 0 0"/>
    <dynamics damping="0.5" friction="1.0"/>
    <limit effort="3" lower="-1.57" upper="1.57" velocity="1.0"/>
  </joint>
  <joint name="finger2_tip_phalanx_joint_left" type="fixed">
    <parent link="finger2_tip_left"/>
    <child link="finger2_tip_phalanx_left"/>
    <origin rpy="0 1.57 0" xyz="0 0 -0.06"/>
  </joint>
  <joint name="grippoint_joint_left" type="fixed">
    <parent link="hand_left"/>
    <child link="grippoint_left"/>
    <origin rpy="0 0 0" xyz="0.14 0.0 0.0"/>
  </joint>
  <!--========BUILD HEAD======-->
  <author>Kris van Tienhoven, Janno Lunenburg</author>
  <license>BSD</license>
  <review notes="" status="unreviewed"/>
  <link name="head_mount">
    <inertial>
      <origin rpy="0 0 0" xyz="0.0 0.0 0.0"/>
      <mass value="0.001"/>
      <inertia ixx="0.0001" ixy="0" ixz="0" iyy="0.0001" iyz="0" izz="0.0001"/>
    </inertial>
  </link>
  <joint name="head_mount_joint" type="fixed">
    <parent link="trunk"/>
    <child link="head_mount"/>
    <axis xyz="0 0 1"/>
    <origin rpy="3.14 0.0 0.0" xyz="0.6 0.0 0.0"/>
    <!-- Check length -->
  </joint>
  <link name="neck_pan">
    <inertial>
      <origin rpy="0 0 0" xyz="0.0 0.0 0.0335"/>
      <mass value="0.05"/>
      <inertia ixx="0.0001" ixy="0" ixz="0" iyy="0.0001" iyz="0" izz="0.0001"/>
    </inertial>
    <visual>
      <origin rpy="0 0 0" xyz="0.0 0.0 0.0335"/>
      <geometry>
        <cylinder length="0.0525" radius="0.015"/>
      </geometry>
      <material name="White">
     </material>
    </visual>
    <collision>
      <origin rpy="0 0 0" xyz="0.0 0.0 0.0335"/>
      <geometry>
        <cylinder length="0.0525" radius="0.015"/>
      </geometry>
    </collision>
  </link>
  <gazebo reference="neck_pan">
    <material>Gazebo/White</material>
    <turnGravityOff>false</turnGravityOff>
  </gazebo>
  <link name="neck_tilt">
    <inertial>
      <origin rpy="0 0 0" xyz="0.0 -0.0 0.0285"/>
      <mass value="0.05"/>
      <inertia ixx="0.001" ixy="0" ixz="0" iyy="0.001" iyz="0" izz="0.001"/>
    </inertial>
    <visual>
      <origin rpy="0 0 0" xyz="0.0 -0.0 0.015"/>
      <geometry>
        <box size="0.001 0.001 0.001"/>
      </geometry>
      <material name="White">
     </material>
    </visual>
    <collision>
      <origin rpy="0 0 0" xyz="0.0 -0.0 0.015"/>
      <geometry>
        <box size="0.001 0.001 0.001"/>
      </geometry>
    </collision>
  </link>
  <gazebo reference="neck_tilt">
    <material>Gazebo/White</material>
    <turnGravityOff>false</turnGravityOff>
  </gazebo>
  <link name="head">
    <inertial>
      <origin rpy="0 0 0" xyz="0 0 0.041"/>
      <mass value="0"/>
      <inertia ixx="0" ixy="0" ixz="0" iyy="0" iyz="0" izz="0"/>
    </inertial>
    <visual>
      <origin rpy="0 0 -1.5708" xyz="0.0 0.0 0.141"/>
      <geometry>
        <box size="0.001 0.001 0.001"/>
      </geometry>
      <material name="White">
     </material>
    </visual>
    <collision>
      <origin rpy="0 0 -1.5708" xyz="0.0 0.0 0.141"/>
      <geometry>
        <box size="0.001 0.001 0.001"/>
      </geometry>
    </collision>
  </link>
  <gazebo reference="head">
    <material>Gazebo/White</material>
    <turnGravityOff>false</turnGravityOff>
  </gazebo>
  <joint name="head_joint" type="fixed">
    <parent link="neck_tilt"/>
    <child link="head"/>
  </joint>
  <joint name="neck_pan_joint" type="revolute">
    <parent link="head_mount"/>
    <child link="neck_pan"/>
    <origin rpy="3.14 -1.5708 0.0" xyz="0.0 0.0 0.0"/>
    <axis xyz="0 0 1"/>
    <dynamics damping="0.1" friction="0"/>
    <limit effort="13.4" lower="-1.5708" upper="1.5708" velocity="1.0"/>
  </joint>
  <joint name="neck_tilt_joint" type="revolute">
    <parent link="neck_pan"/>
    <child link="neck_tilt"/>
    <origin rpy="0.0 0.0 0.0" xyz="0.0 0.0 0.0445"/>
    <axis xyz="0 1 0"/>
    <dynamics damping="0.1" friction="0.0"/>
    <limit effort="13.4" lower="-2.0" upper="2.0" velocity="1.0"/>
  </joint>
  <!--========BUILD KINECT======-->
  <joint name="top_kinect/base_kinect_joint" type="fixed">
    <origin rpy="0 0 0" xyz="0.07 0 0.07"/>
    <!-- THESE VALUES ARE ROUGH ESTIMATES!! -->
    <parent link="head"/>
    <child link="top_kinect/openni_camera"/>
  </joint>
  <link name="top_kinect/openni_camera">
    <inertial>
      <mass value="0.01"/>
      <origin xyz="0 0 0"/>
      <inertia ixx="0.001" ixy="0.0" ixz="0.0" iyy="0.001" iyz="0.0" izz="0.001"/>
    </inertial>
    <visual>
      <origin rpy="0 0 0" xyz=" 0 0 0 "/>
      <geometry>
        <!--<box size="0.001 0.001 0.001"/>-->
        <!--Changed to 0.001 because otherwise it doesn't work-->
        <!--mesh filename="package://amigo_description/kinect/meshes/kinect.dae" scale="0.001 0.001 0.001"/-->
        <mesh filename="package://amigo2_description/media/meshes/kinect_without_base.dae"/>
      </geometry>
    </visual>
    <!--<collision>
      <origin xyz="-0.0365 0.0 0.0" rpy="0 0 0" />
      <geometry>
        <box size="0.0730 .2760 0.0720"/>
      </geometry>
    </collision>-->
  </link>
  <joint name="top_kinect/kinect_depth_joint" type="fixed">
    <origin rpy="0 0 0" xyz="0 0.018 0"/>
    <parent link="top_kinect/openni_camera"/>
    <child link="top_kinect/openni_depth_frame"/>
  </joint>
  <link name="top_kinect/openni_depth_frame">
    <inertial>
      <mass value="0.01"/>
      <origin xyz="0 0 0"/>
      <inertia ixx="0.001" ixy="0.0" ixz="0.0" iyy="0.001" iyz="0.0" izz="0.001"/>
    </inertial>
  </link>
  <joint name="top_kinect/kinect_depth_optical_joint" type="fixed">
    <origin rpy="-1.570795 0 -1.570795" xyz="0 0 0"/>
    <parent link="top_kinect/openni_depth_frame"/>
    <child link="top_kinect/openni_depth_optical_frame"/>
  </joint>
  <link name="top_kinect/openni_depth_optical_frame">
    <inertial>
      <mass value="0.001"/>
      <origin xyz="0 0 0"/>
      <inertia ixx="0.0001" ixy="0.0" ixz="0.0" iyy="0.0001" iyz="0.0" izz="0.0001"/>
    </inertial>
  </link>
  <joint name="top_kinect/kinect_rgb_joint" type="fixed">
    <origin rpy="0 0 0" xyz="0 -0.005 0"/>
    <parent link="top_kinect/openni_camera"/>
    <child link="top_kinect/openni_rgb_frame"/>
  </joint>
  <link name="top_kinect/openni_rgb_frame">
    <inertial>
      <mass value="0.001"/>
      <origin xyz="0 0 0"/>
      <inertia ixx="0.0001" ixy="0.0" ixz="0.0" iyy="0.0001" iyz="0.0" izz="0.0001"/>
    </inertial>
  </link>
  <joint name="top_kinect/kinect_rgb_optical_joint" type="fixed">
    <origin rpy="-1.570795 0 -1.570795" xyz="0 0 0"/>
    <parent link="top_kinect/openni_rgb_frame"/>
    <child link="top_kinect/openni_rgb_optical_frame"/>
  </joint>
  <link name="top_kinect/openni_rgb_optical_frame">
    <inertial>
      <mass value="0.001"/>
      <origin xyz="0 0 0"/>
      <inertia ixx="0.0001" ixy="0.0" ixz="0.0" iyy="0.0001" iyz="0.0" izz="0.0001"/>
    </inertial>
  </link>
  <!--========BUILD LASER======-->
  <author>Kris van Tienhoven</author>
  <license>BSD</license>
  <review notes="" status="unreviewed"/>
  <link name="base_laser">
    <inertial>
      <origin rpy="0 0 0" xyz="0.0 0.0 0.0"/>
      <mass value="0.5"/>
      <inertia ixx="0.0001" ixy="0" ixz="0" iyy="0.0001" iyz="0" izz="0.0001"/>
    </inertial>
    <visual>
      <origin rpy="0 0 0" xyz="-0.005 0.0 -0.065"/>
      <geometry>
        <box size="0.05 0.065 0.12"/>
      </geometry>
      <material name="Black">
     </material>
    </visual>
    <collision>
      <origin rpy="0 0 0" xyz="-0.005 0.0 -0.065"/>
      <geometry>
        <box size="0.05 0.065 0.12"/>
      </geometry>
    </collision>
  </link>
  <gazebo reference="base_laser">
    <material>Gazebo/Black</material>
    <turnGravityOff>false</turnGravityOff>
  </gazebo>
  <joint name="base_laser_joint" type="fixed">
    <parent link="base"/>
    <child link="base_laser"/>
    <origin rpy="3.14 0 0" xyz="0.35 0.0 -0.06"/>
    <axis xyz="0 1 0"/>
    <dynamics damping="0.1" friction="0"/>
    <limit effort="13.4" lower="-0.7809" upper="1.5708" velocity="1.0"/>
  </joint>
  <link name="lasertop">
    <inertial>
      <origin rpy="0 0 0" xyz="0.0 0.0 0.0"/>
      <mass value="0.01"/>
      <inertia ixx="0.0001" ixy="0" ixz="0" iyy="0.0001" iyz="0" izz="0.0001"/>
    </inertial>
    <visual>
      <origin rpy="0 0 0" xyz="-0.005 0.0 0.0"/>
      <geometry>
        <box size="0.05 0.065 0.01"/>
      </geometry>
      <material name="Red">
     </material>
    </visual>
    <collision>
      <origin rpy="0 0 0" xyz="-0.005 0.0 0.0"/>
      <geometry>
        <box size="0.05 0.065 0.01"/>
      </geometry>
    </collision>
  </link>
  <gazebo reference="lasertop">
    <material>Gazebo/Red</material>
    <turnGravityOff>false</turnGravityOff>
  </gazebo>
  <joint name="lasertop_joint" type="fixed">
    <parent link="base_laser"/>
    <child link="lasertop"/>
  </joint>
  <author>Kris van Tienhoven</author>
  <license>BSD</license>
  <review notes="" status="unreviewed"/>
  <link name="torso_laser">
    <inertial>
      <origin rpy="0 0 0" xyz="0.0 0.0 0.0"/>
      <mass value="0.5"/>
      <inertia ixx="0.0001" ixy="0" ixz="0" iyy="0.0001" iyz="0" izz="0.0001"/>
    </inertial>
    <visual>
      <origin rpy="0 0 0" xyz="-0.005 0.0 -0.065"/>
      <geometry>
        <box size="0.05 0.065 0.12"/>
      </geometry>
      <material name="Black">
     </material>
    </visual>
    <collision>
      <origin rpy="0 0 0" xyz="-0.005 0.0 -0.065"/>
      <geometry>
        <box size="0.05 0.065 0.12"/>
      </geometry>
    </collision>
  </link>
  <gazebo reference="torso_laser">
    <material>Gazebo/Black</material>
    <turnGravityOff>false</turnGravityOff>
  </gazebo>
  <joint name="torso_laser_joint" type="revolute">
    <parent link="trunk"/>
    <child link="torso_laser"/>
    <origin rpy="3.14 1.57 0.0 " xyz="0.22 0.0 -0.1"/>
    <axis xyz="0 1 0"/>
    <dynamics damping="0.1" friction="0"/>
    <limit effort="13.4" lower="-0.7809" upper="1.5708" velocity="1.0"/>
  </joint>
  <link name="torso_lasertop">
    <inertial>
      <origin rpy="0 0 0" xyz="0.0 0.0 0.0"/>
      <mass value="0.01"/>
      <inertia ixx="0.0001" ixy="0" ixz="0" iyy="0.0001" iyz="0" izz="0.0001"/>
    </inertial>
    <visual>
      <origin rpy="0 0 0" xyz="-0.005 0.0 0.0"/>
      <geometry>
        <box size="0.05 0.065 0.01"/>
      </geometry>
      <material name="Red">
     </material>
    </visual>
    <collision>
      <origin rpy="0 0 0" xyz="-0.005 0.0 0.0"/>
      <geometry>
        <box size="0.05 0.065 0.01"/>
      </geometry>
    </collision>
  </link>
  <gazebo reference="torso_lasertop">
    <material>Gazebo/Red</material>
    <turnGravityOff>false</turnGravityOff>
  </gazebo>
  <joint name="torso_lasertop_joint" type="fixed">
    <parent link="torso_laser"/>
    <child link="torso_lasertop"/>
  </joint>
  <!-- GAZEBO -->
  <gazebo>
    <link name="base_fixed_link">
      <pose>0.000000 0.000000 0.000000 0.000000 0.000000 0.000000</pose>
      <inertial>
        <pose>0.000000 0.000000 0.000000 0.000000 0.000000 0.000000</pose>
        <mass>10.000000</mass>
        <inertia>
          <ixx>0.100000</ixx>
          <ixy>0.100000</ixy>
          <ixz>0.100000</ixz>
          <iyy>0.100000</iyy>
          <iyz>0.100000</iyz>
          <izz>0.100000</izz>
        </inertia>
      </inertial>
      <velocity_decay>
        <linear>0.000000</linear>
        <angular>0.000000</angular>
      </velocity_decay>
    </link>
    <joint name="base_fixed_joint" type="revolute">
      <child>base_fixed_link</child>
      <parent>world</parent>
      <axis>
        <limit>
          <lower>0.000000</lower>
          <upper>0.000000</upper>
        </limit>
        <dynamics>
          <damping>0.000000</damping>
        </dynamics>
        <xyz>0.000000 0.000000 1.000000</xyz>
      </axis>
    </joint>
    <link name="base_x_link">
      <pose>0.000000 0.000000 0.000000 0.000000 0.000000 0.000000</pose>
      <inertial>
        <pose>0.000000 0.000000 0.000000 0.000000 0.000000 0.000000</pose>
        <mass>10.000000</mass>
        <inertia>
          <ixx>0.100000</ixx>
          <ixy>0.100000</ixy>
          <ixz>0.100000</ixz>
          <iyy>0.100000</iyy>
          <iyz>0.100000</iyz>
          <izz>0.100000</izz>
        </inertia>
      </inertial>
      <velocity_decay>
        <linear>0.000000</linear>
        <angular>0.000000</angular>
      </velocity_decay>
    </link>
    <joint name="base_x_joint" type="prismatic">
      <child>base_x_link</child>
      <parent>base_fixed_link</parent>
      <axis>
        <xyz>1.000000 0.000000 0.000000</xyz>
        <limit>
          <lower>-1000.000000</lower>
          <upper>1000.000000</upper>
        </limit>
        <dynamics>
          <damping>100.000000</damping>
        </dynamics>
      </axis>
    </joint>
    <link name="base_y_link">
      <pose>0.000000 0.000000 0.000000 0.000000 0.000000 0.000000</pose>
      <inertial>
        <pose>0.000000 0.000000 0.000000 0.000000 0.000000 0.000000</pose>
        <mass>10.000000</mass>
        <inertia>
          <ixx>0.100000</ixx>
          <ixy>0.100000</ixy>
          <ixz>0.100000</ixz>
          <iyy>0.100000</iyy>
          <iyz>0.100000</iyz>
          <izz>0.100000</izz>
        </inertia>
      </inertial>
      <velocity_decay>
        <linear>0.000000</linear>
        <angular>0.000000</angular>
      </velocity_decay>
    </link>
    <joint name="base_y_joint" type="prismatic">
      <child>base_y_link</child>
      <parent>base_x_link</parent>
      <axis>
        <xyz>0.000000 1.000000 0.000000</xyz>
        <limit>
          <lower>-1000.000000</lower>
          <upper>1000.000000</upper>
        </limit>
        <dynamics>
          <damping>100.000000</damping>
        </dynamics>
      </axis>
    </joint>
    <joint name="base_phi_joint" type="revolute">
      <child>base_link</child>
      <parent>base_y_link</parent>
      <axis>
        <xyz>0.000000 0.000000 1.000000</xyz>
        <limit>
          <lower>-10000000000000000.000000</lower>
          <upper>10000000000000000.000000</upper>
        </limit>
        <dynamics>
          <damping>100.000000</damping>
        </dynamics>
      </axis>
    </joint>
  </gazebo>
  <gazebo reference="base_link">
    <sensor name="base_kinect_openni_camera" type="depth">
      <update_rate>20.000000</update_rate>
      <camera name="base_kinect">
        <horizontal_fov>1.047198</horizontal_fov>
        <image>
          <width>640</width>
          <height>480</height>
          <format>R8G8B8</format>
        </image>
        <clip>
          <near>0.050000</near>
          <far>3.000000</far>
        </clip>
      </camera>
      <plugin filename="libKinectPlugin.so" name="base_kinect_camera_controller">
        <alwaysOn>1</alwaysOn>
        <updateRate>20</updateRate>
        <cameraName>base_kinect</cameraName>
        <imageTopicName>rgb/image_color</imageTopicName>
        <cameraInfoTopicName>rgb/camera_info</cameraInfoTopicName>
        <depthImageTopicName>depth/image</depthImageTopicName>
        <depthImageCameraInfoTopicName>depth/camera_info</depthImageCameraInfoTopicName>
        <pointCloudTopicName>rgb/points</pointCloudTopicName>
        <frameName>base_kinect/openni_depth_optical_frame</frameName>
      </plugin>
      <pose>0.300000 0.000000 0.315000 0.000000 -0.070000 0.000000</pose>
    </sensor>
    <sensor name="base_ray_sensor" type="ray">
      <update_rate>100.000000</update_rate>
      <ray>
        <scan>
          <horizontal>
            <samples>918</samples>
            <resolution>1.000000</resolution>
            <min_angle>-2.0027654171</min_angle>
            <max_angle>1.99840199947</max_angle>
          </horizontal>
          <vertical>
            <samples>1</samples>
            <min_angle>0.000000</min_angle>
            <max_angle>0.000000</max_angle>
          </vertical>
        </scan>
        <range>
          <min>0.05</min>
          <max>60.0</max>
          <resolution>0.010000</resolution>
        </range>
      </ray>
      <plugin filename="libLaserPlugin.so" name="base_ros_ray_sensor_controller">
        <gaussianNoise>0.005</gaussianNoise>
        <alwaysOn>1</alwaysOn>
        <updateRate>40</updateRate>
        <topicName>base_front_laser</topicName>
        <node_namespace>base</node_namespace>
        <frameName>base_laser</frameName>
      </plugin>
      <pose>0.310000 0.000000 0.240000 0.000000 0.000000 0.000000</pose>
    </sensor>
  </gazebo>
  <gazebo reference="neck_tilt">
    <sensor name="openni_camera" type="depth">
      <update_rate>20.000000</update_rate>
      <camera name="top_kinect">
        <horizontal_fov>1.047198</horizontal_fov>
        <image>
          <width>640</width>
          <height>480</height>
          <format>R8G8B8</format>
        </image>
        <clip>
          <near>0.050000</near>
          <far>3.000000</far>
        </clip>
      </camera>
      <plugin filename="libKinectPlugin.so" name="kinect_camera_controller">
        <alwaysOn>1</alwaysOn>
        <updateRate>20</updateRate>
        <cameraName>top_kinect</cameraName>
        <imageTopicName>rgb/image_color</imageTopicName>
        <cameraInfoTopicName>rgb/camera_info</cameraInfoTopicName>
        <depthImageTopicName>depth/image</depthImageTopicName>
        <depthImageCameraInfoTopicName>depth/camera_info</depthImageCameraInfoTopicName>
        <pointCloudTopicName>rgb/points</pointCloudTopicName>
        <frameName>top_kinect/openni_depth_optical_frame</frameName>
      </plugin>
      <pose>0.070000 0.000000 0.070000 0.000000 0.000000 0.000000</pose>
    </sensor>
  </gazebo>
  <gazebo>
    <plugin filename="libPositionController.so" name="position_controller">
      <package>amigo2_description</package>
      <group_summary_file>custom/joint_groups.yaml</group_summary_file>
    </plugin>
    <plugin filename="libAmigoBaseController.so" name="base_controller">
      <package>amigo2_controller_configuration_gazebo</package>
      <parameter_file>/parameters/mod_base_controller.yaml</parameter_file>
      <node_namespace>base</node_namespace>
      <odomTopic>odom</odomTopic>
    </plugin>
  </gazebo>
</robot>
